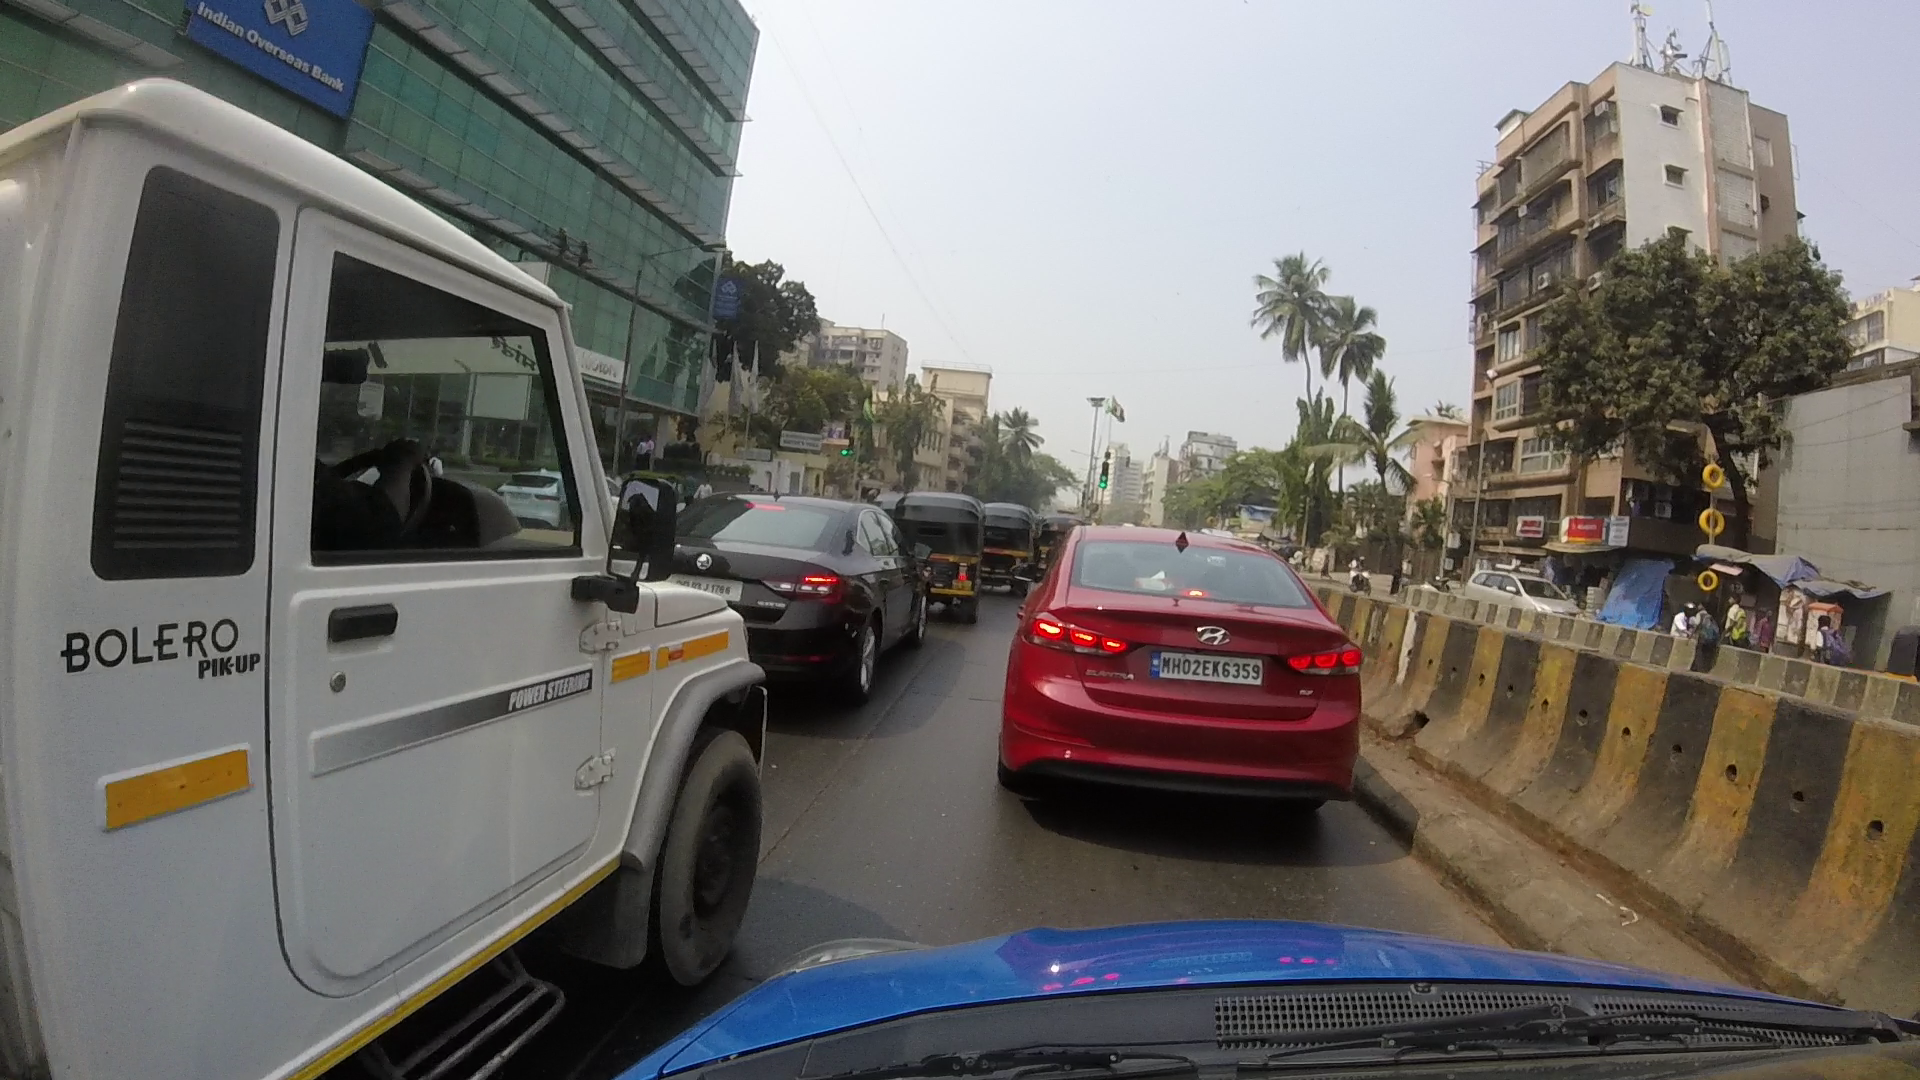car: (1013, 522, 1381, 807), (687, 492, 924, 692)
rickshaw: (899, 492, 986, 613), (975, 506, 1036, 589)
truck: (3, 86, 783, 1080)
